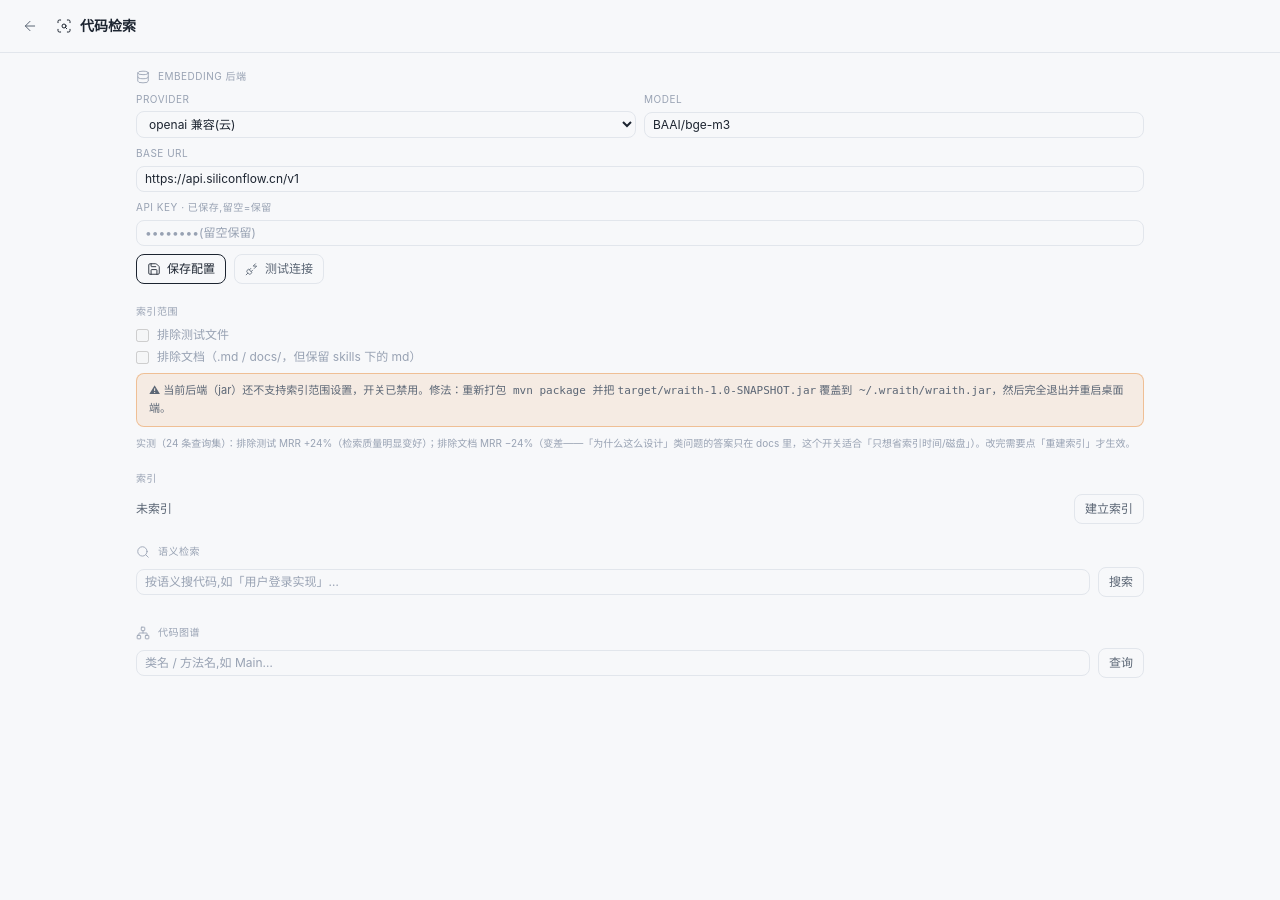
it: RagPanel 索引结果 › 有块向量化失败 → 明确说「不完整」并给出失败块数/文件数,不能只报成功数
Click the button "建立索引" at point(1109, 509), box x1=1074 y1=494 x2=1144 y2=524
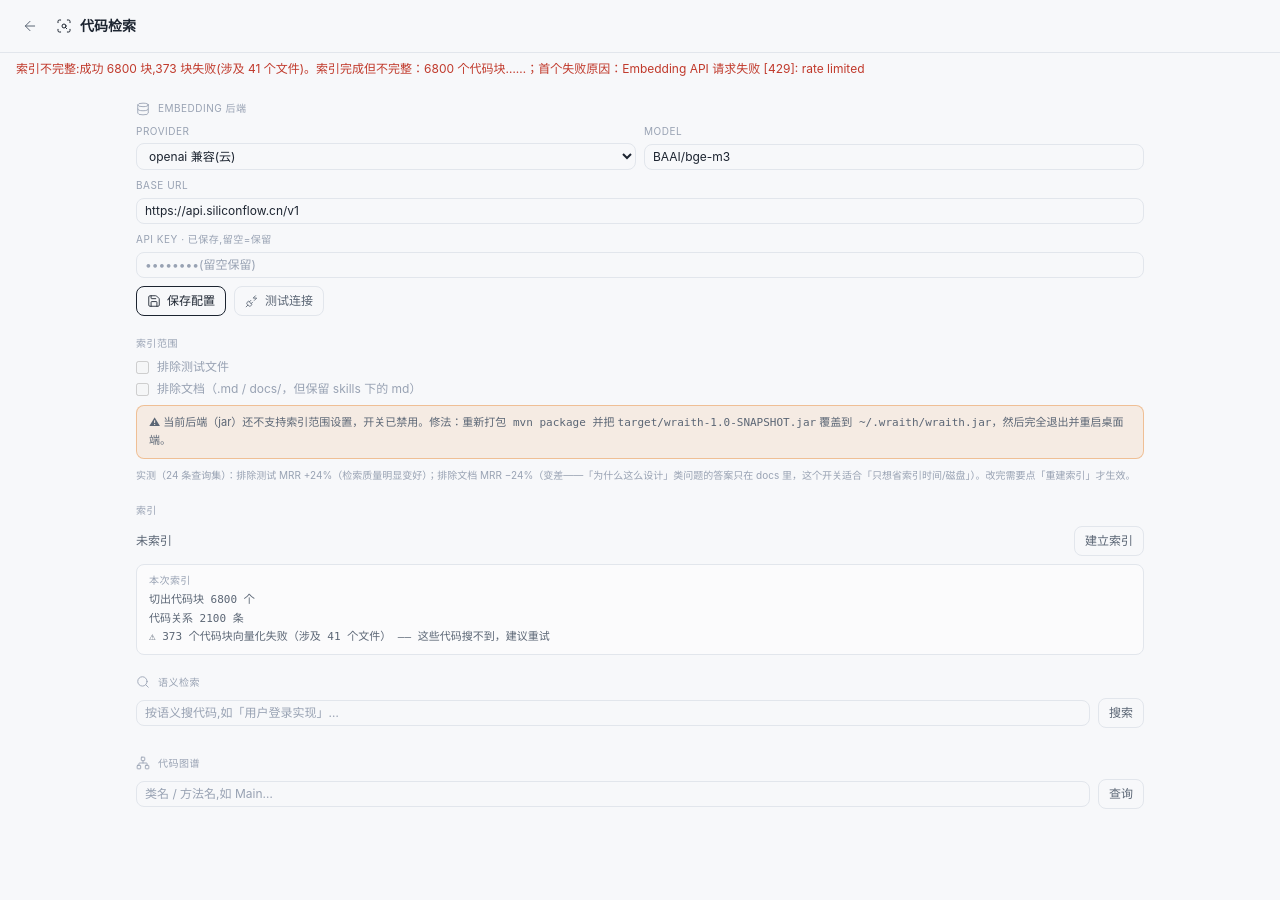
Result: the text "不完整" shows "373" at x1=16 y1=61 x2=864 y2=76
Result: the text "不完整" shows "41" at x1=16 y1=61 x2=864 y2=76
Result: the text "不完整" shows "429" at x1=16 y1=61 x2=864 y2=76
